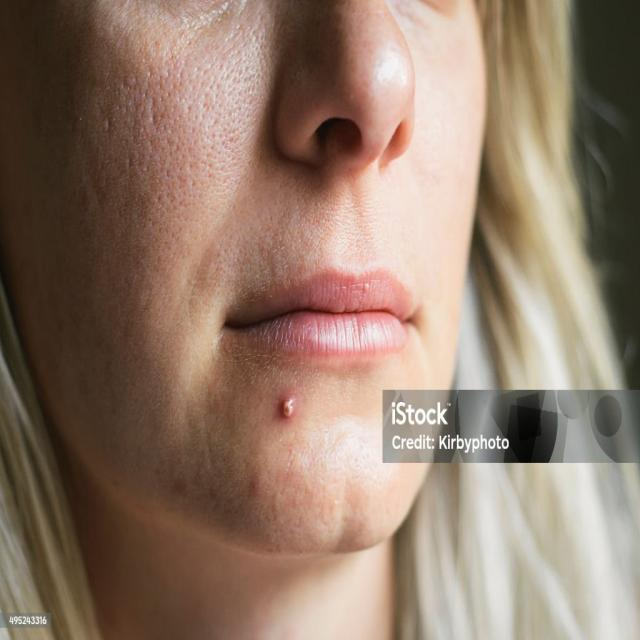pustule: (272, 395, 300, 426)
